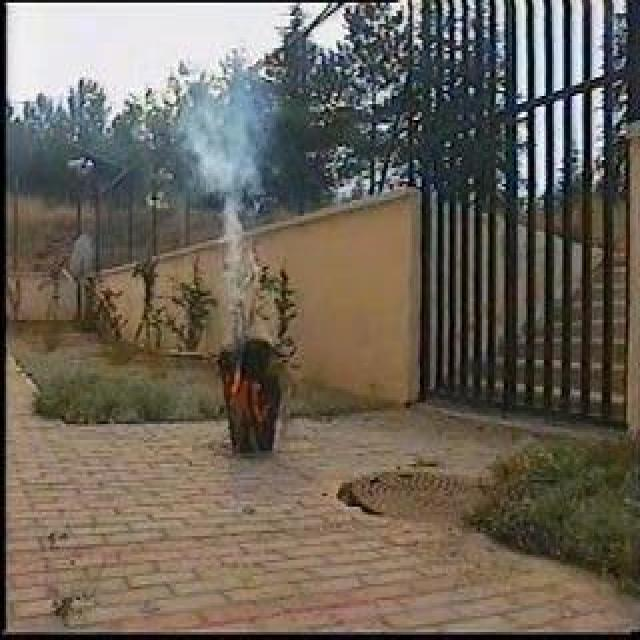fire: (219, 351, 255, 396)
smoke: (189, 80, 269, 314)
